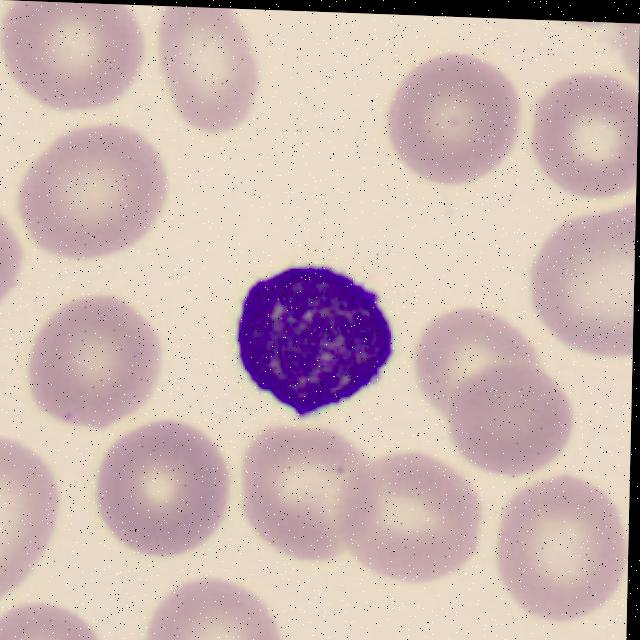lymphocyte: (224, 256, 405, 425)
rbc: (341, 444, 487, 588), (20, 125, 172, 255), (500, 477, 630, 622), (98, 423, 231, 554), (244, 426, 366, 567), (29, 298, 158, 428), (383, 65, 522, 185), (527, 215, 636, 360), (9, 0, 147, 110), (411, 296, 540, 409), (155, 6, 271, 131), (452, 364, 567, 481), (528, 78, 639, 189), (139, 569, 291, 640), (0, 434, 51, 596), (0, 594, 117, 640), (0, 198, 29, 317), (611, 23, 640, 79), (612, 472, 630, 550), (548, 20, 619, 36)
